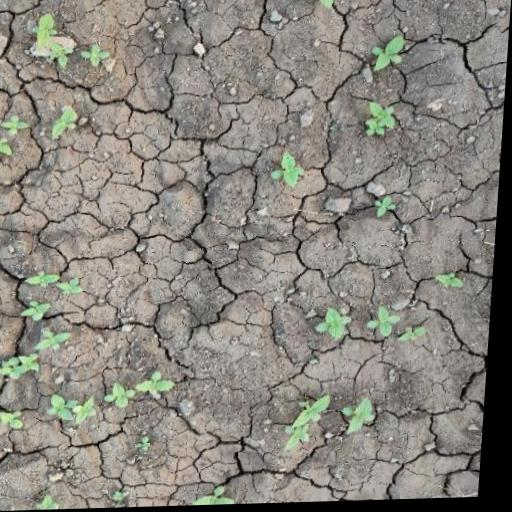crop: (2, 265, 91, 381), (20, 2, 128, 75), (285, 387, 398, 454), (358, 26, 414, 150), (315, 303, 439, 349), (109, 364, 180, 424), (0, 103, 34, 173), (48, 95, 93, 142), (45, 395, 103, 430), (270, 149, 313, 188), (194, 486, 252, 507), (289, 0, 355, 10)
